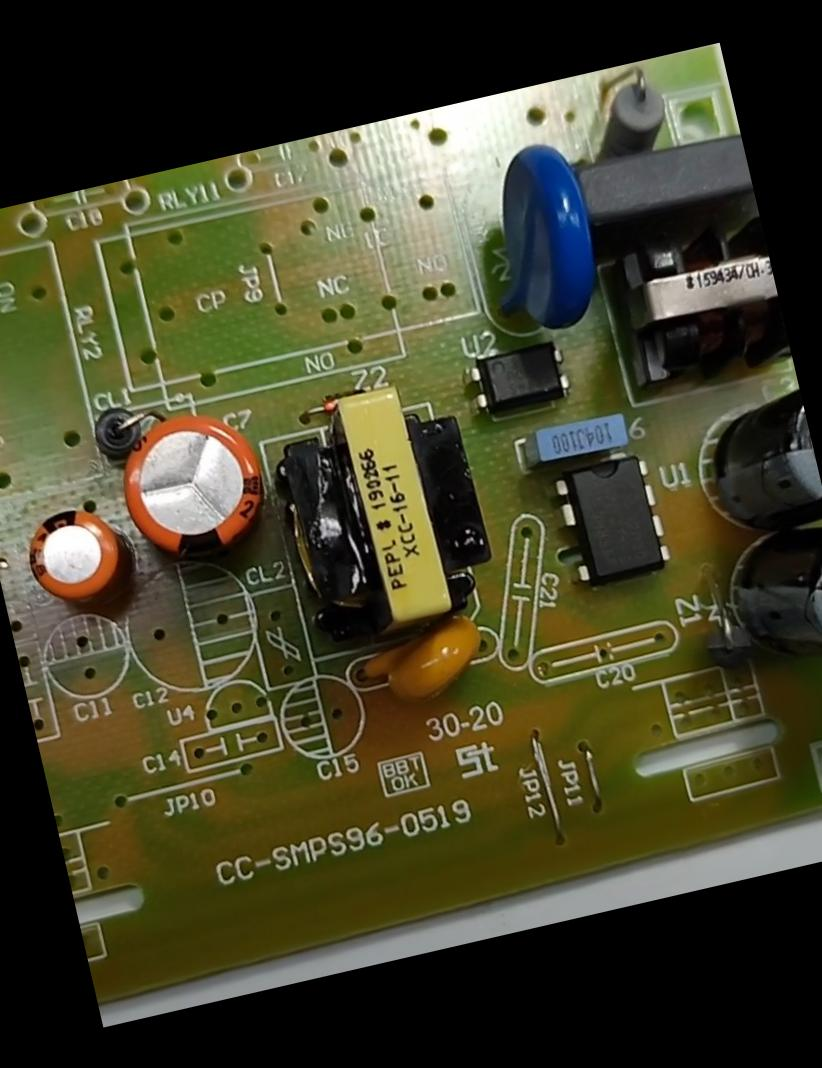Cap1: (95, 389, 294, 587)
Cap2: (4, 487, 146, 630)
Cap3: (679, 377, 821, 553)
Cap4: (700, 508, 821, 712)
MOSFET: (535, 438, 681, 606)
Mov: (448, 131, 620, 357)
Resistor: (566, 56, 681, 169)
Transformer: (258, 362, 511, 664), (594, 205, 793, 404)
